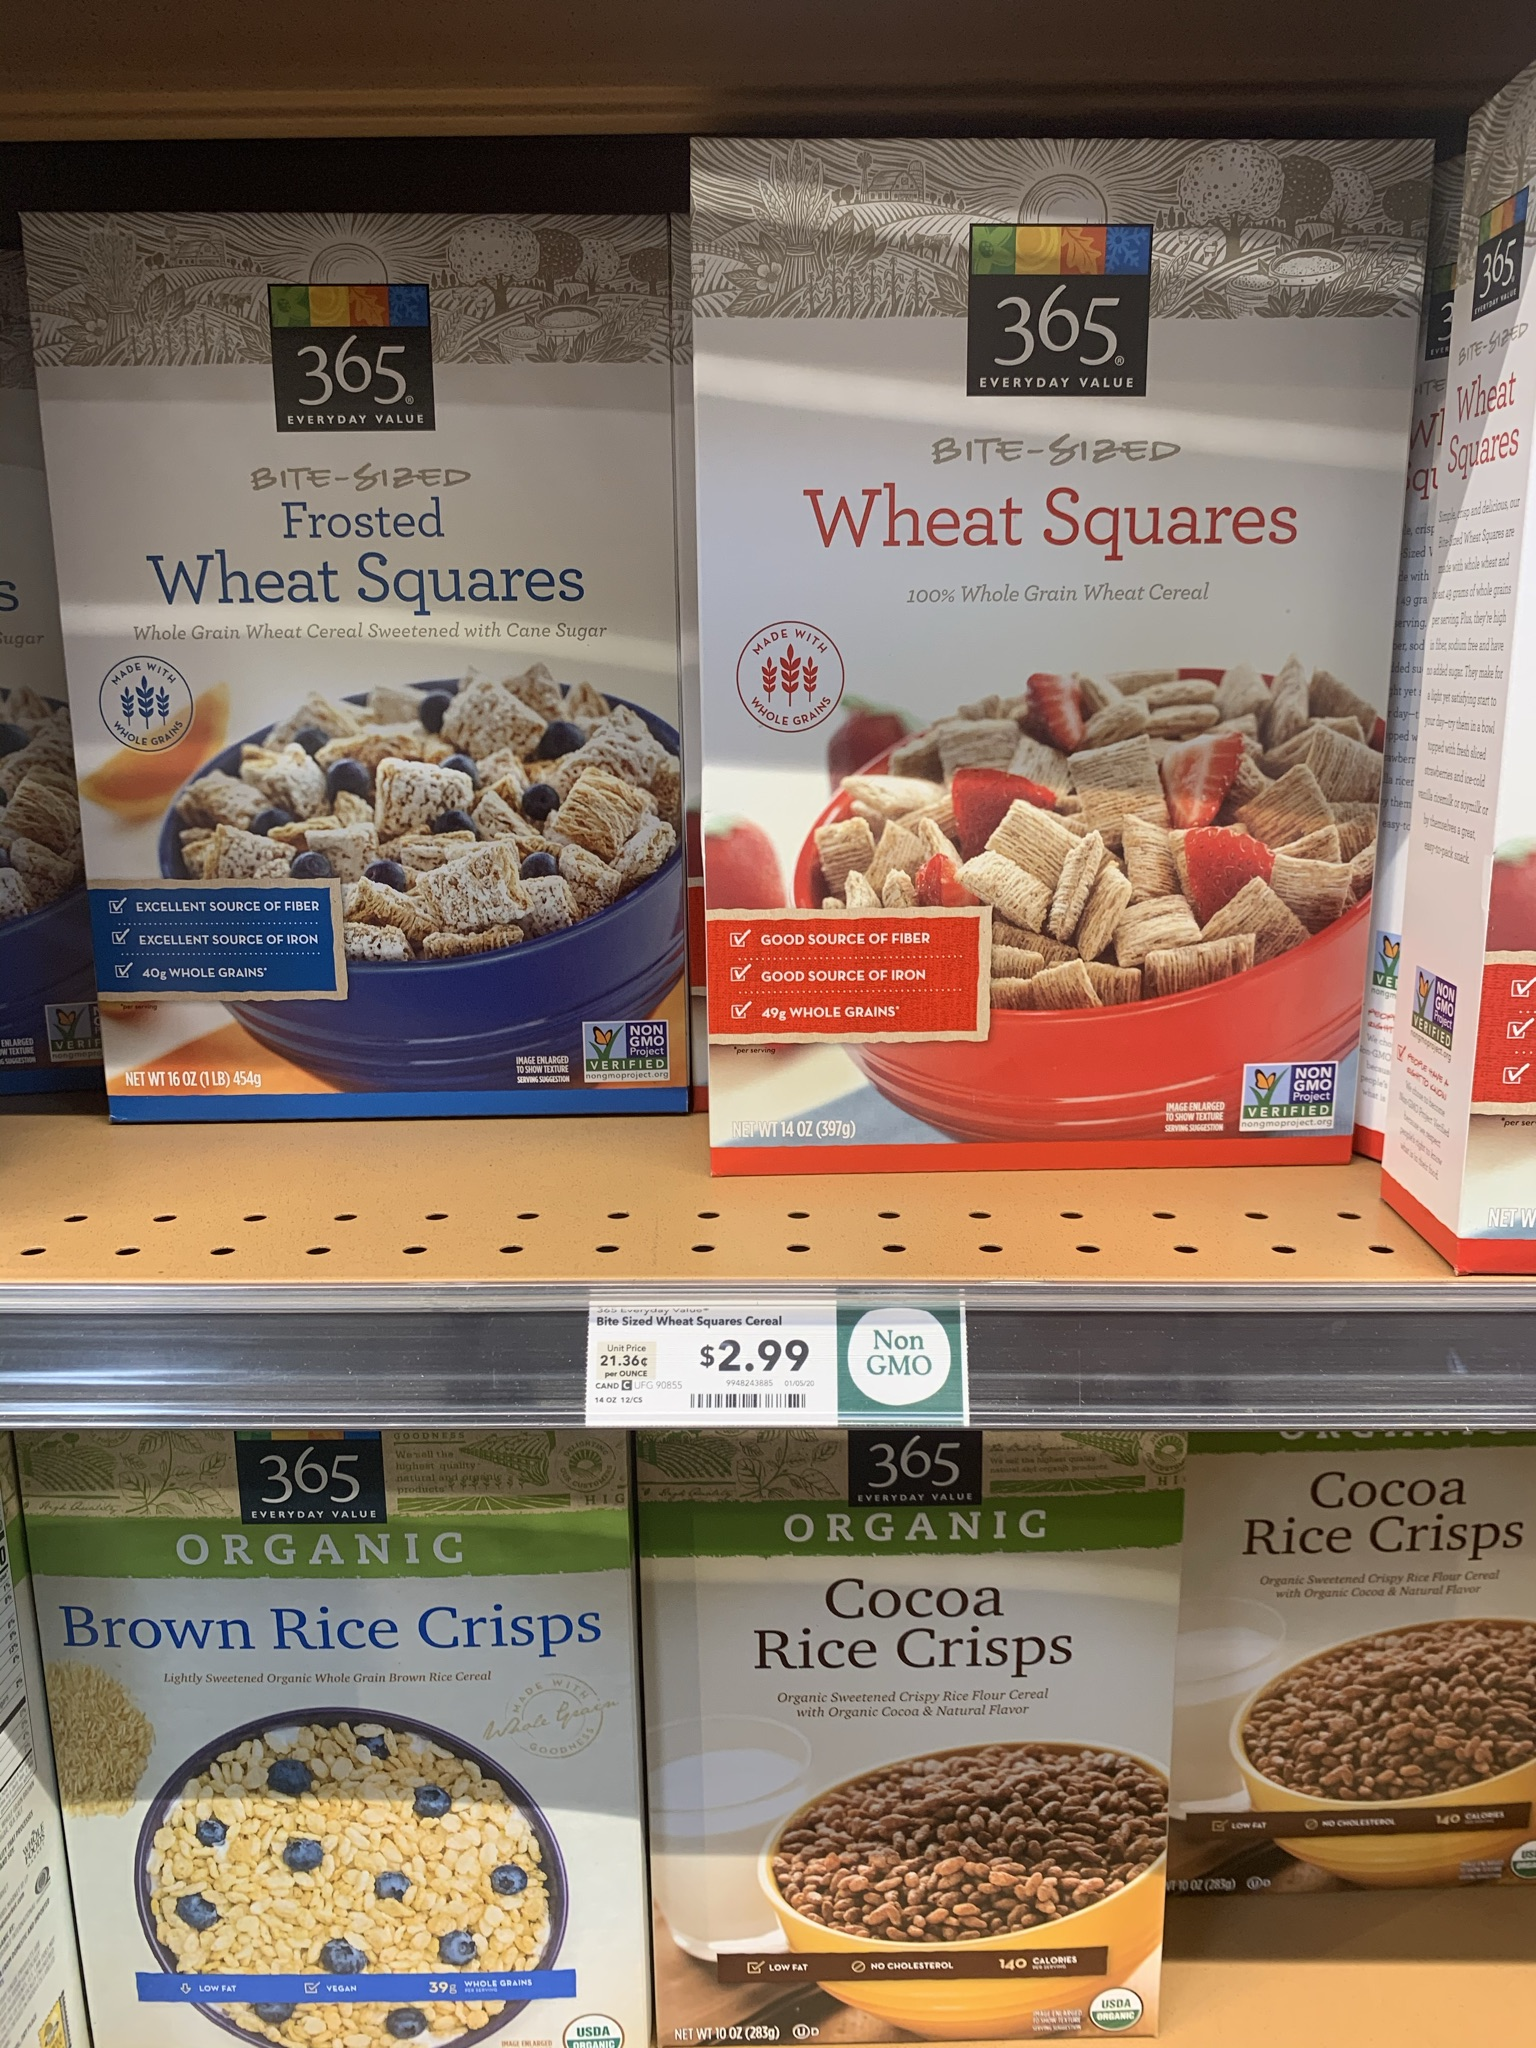Cereal: (681, 124, 1438, 1185), (15, 1503, 653, 2048), (636, 1493, 1173, 2048)
